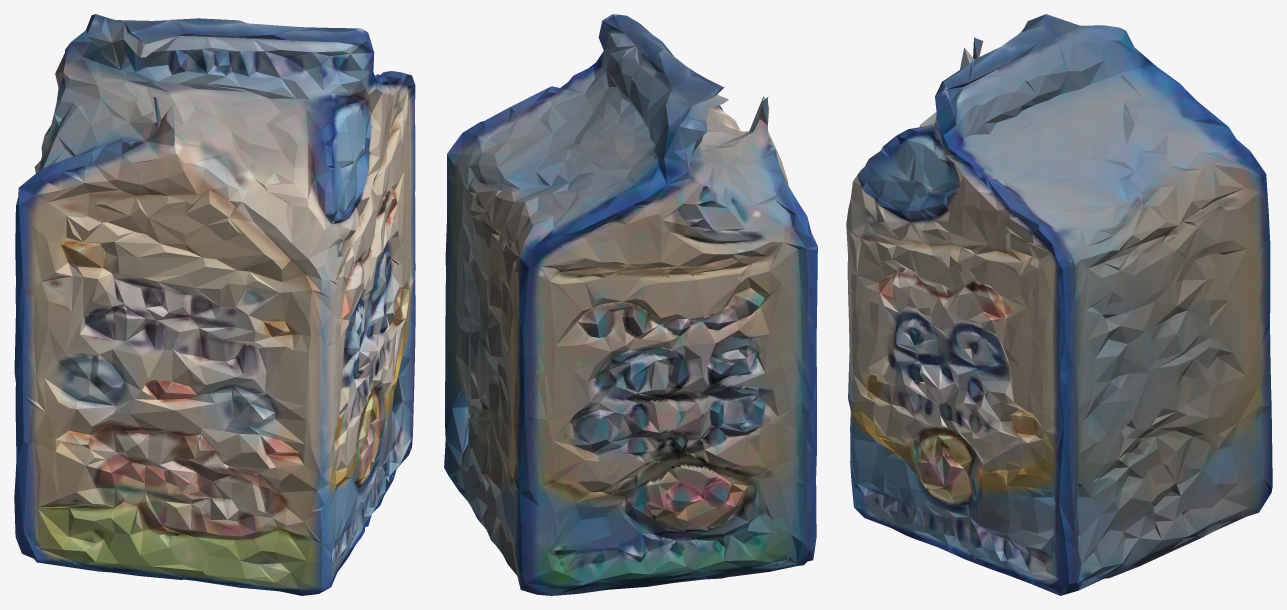
Rendered from milk.glb.
3 views of the same model, side by side, from view 1: azimuth 30°, elevation 25°; view 2: azimuth 150°, elevation 25°; view 3: azimuth 270°, elevation 25° (orthographic). The views are drawn at different scales.
Visible parts, largest first — view 1: geometry_0; view 2: geometry_0; view 3: geometry_0.
Part boxes in pixels (box(x1,y1,x2,y2)): geometry_0: box(14, 14, 415, 595); geometry_0: box(444, 14, 817, 595); geometry_0: box(846, 14, 1272, 595).
Bounding box in the file's own units: 0.0897 × 0.11 × 0.0898.
1 material, 1 textured.
